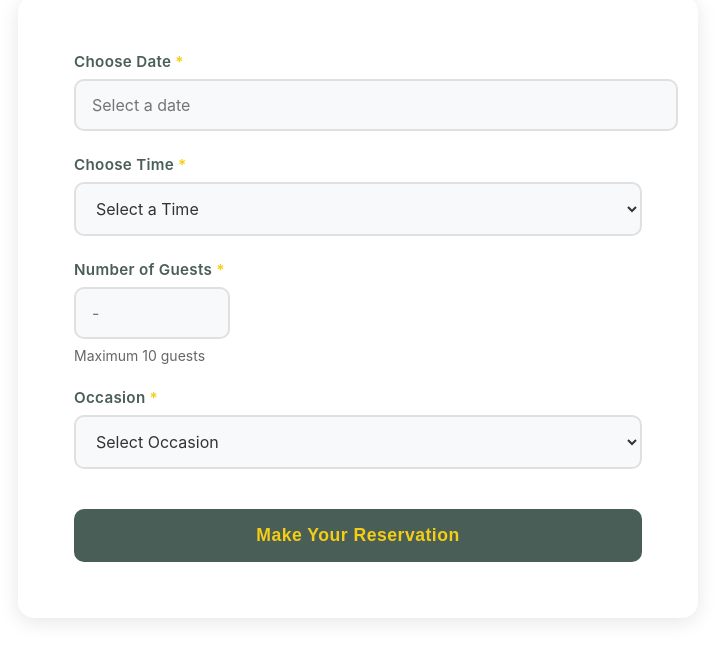
BookingForm Component › Form Validation › shows error when past date is selected
This screenshot has width=717, height=670.
In the field with placeholder "Select a date": (376, 105) [74,79,678,131], type "invalid"
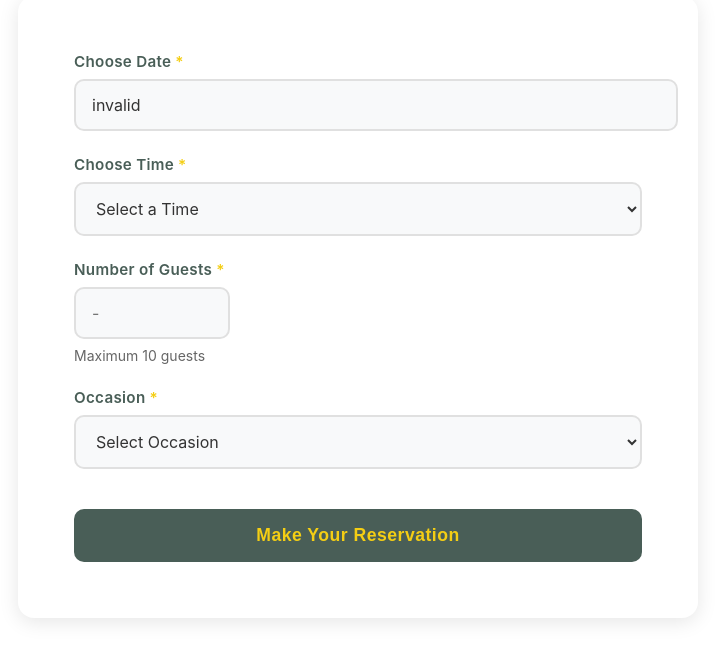
Leave the field with placeholder "Select a date", box [74,79,678,131]
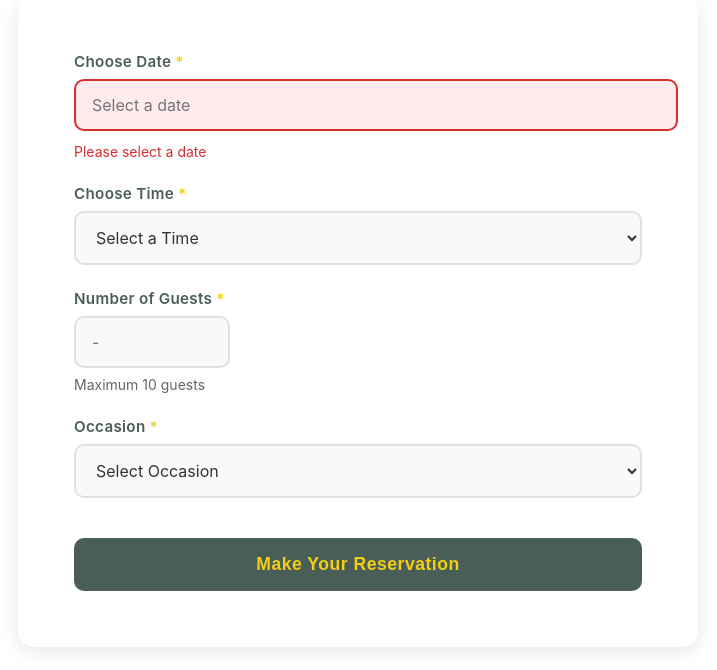
Expected: the text "Please select a date" is shown, [74,143,206,160]
